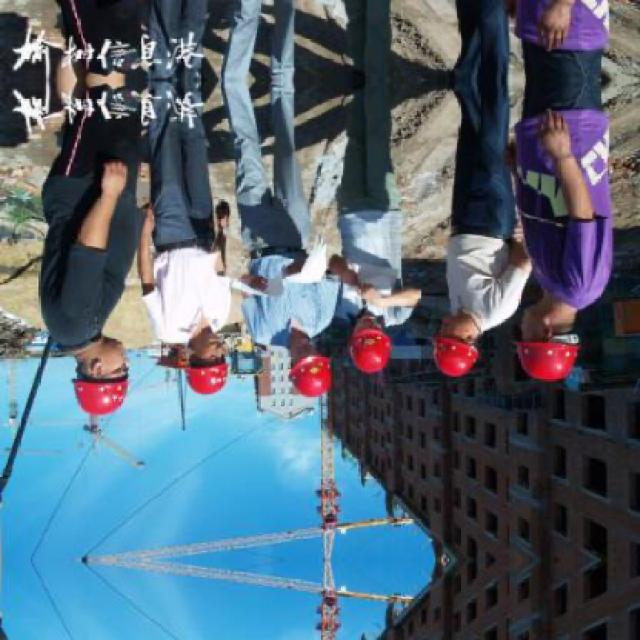con casco: (43, 310, 131, 430), (172, 338, 242, 401), (437, 324, 499, 393), (272, 338, 330, 399), (341, 317, 403, 372), (524, 335, 563, 393)
